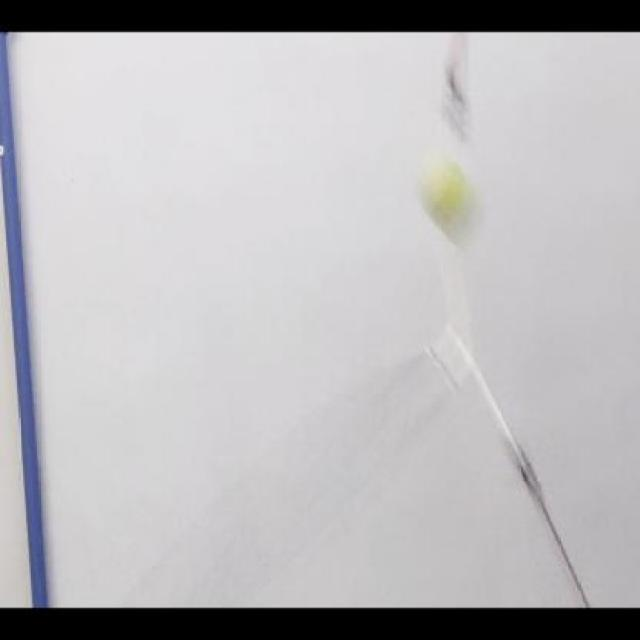baseball: (416, 144, 486, 253)
